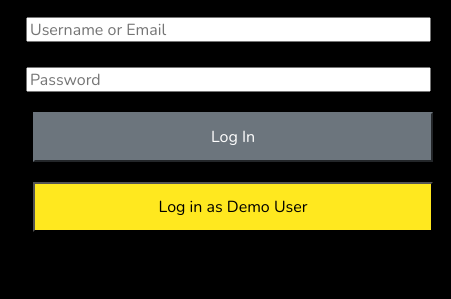
it: LoginFormModal › shows the server's message when login fails
Type "Demo-User" into the field labelled "Username or Email". click: (228, 30)
box: [26,17,431,42]
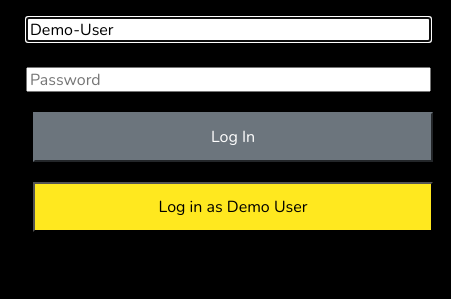
Type "wrong-password" into the password field labelled "Password". click: (228, 80)
box: [26,67,431,92]
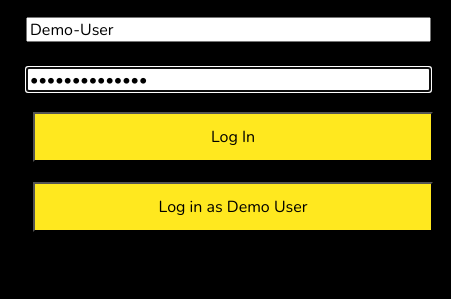
Click the button "Log In". click: (233, 137)
box: [33,112,433,162]
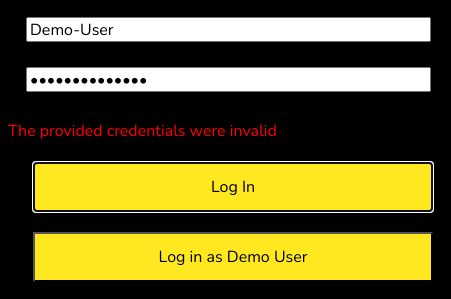
Expected: the message reads "The provided credentials were invalid", [8,120,277,142]
